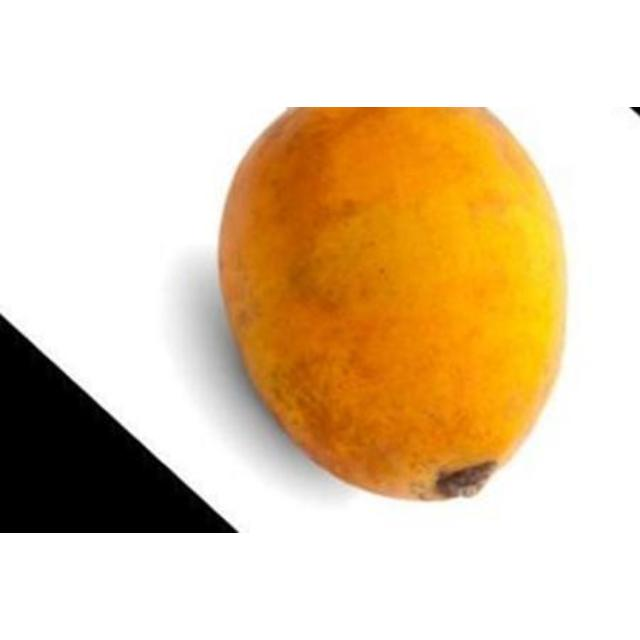good: (216, 107, 567, 501)
